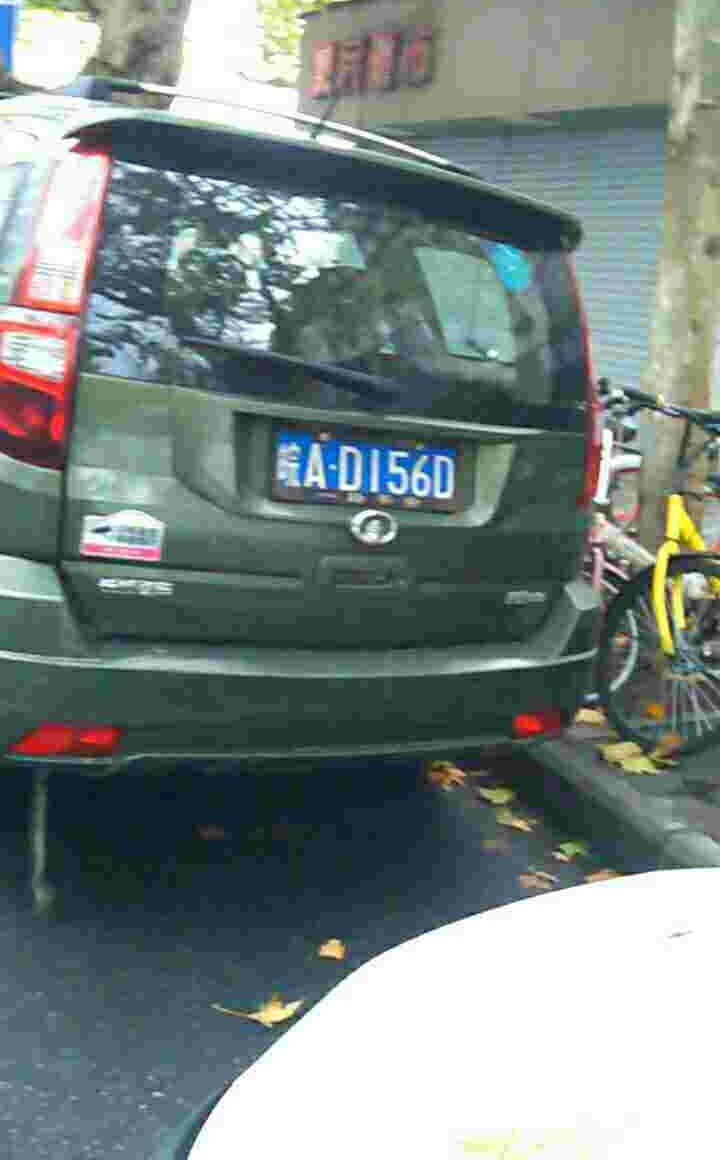license_plate: (283, 440, 455, 500)
